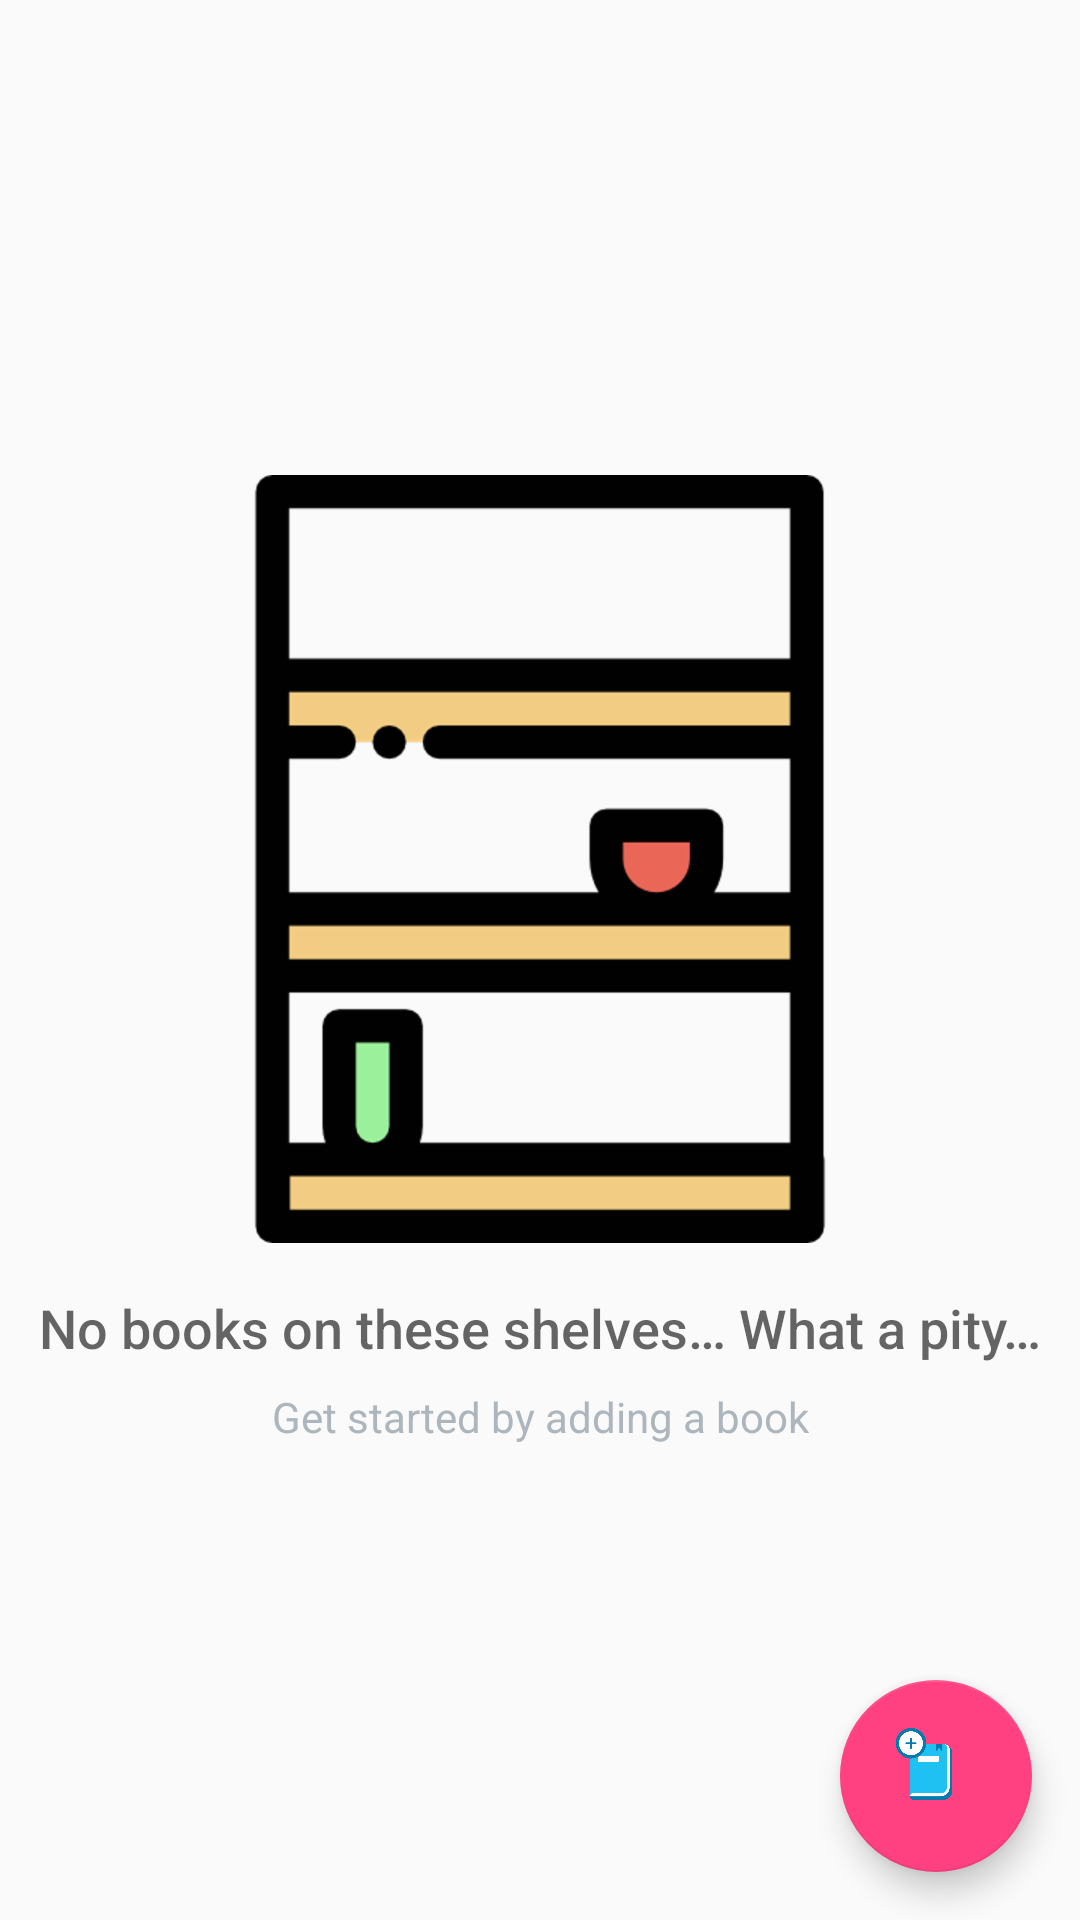

Icons on this 1080px x 1920px Android screen, each with the point to tap as point (x, y):
addbook: point (936, 1776)
